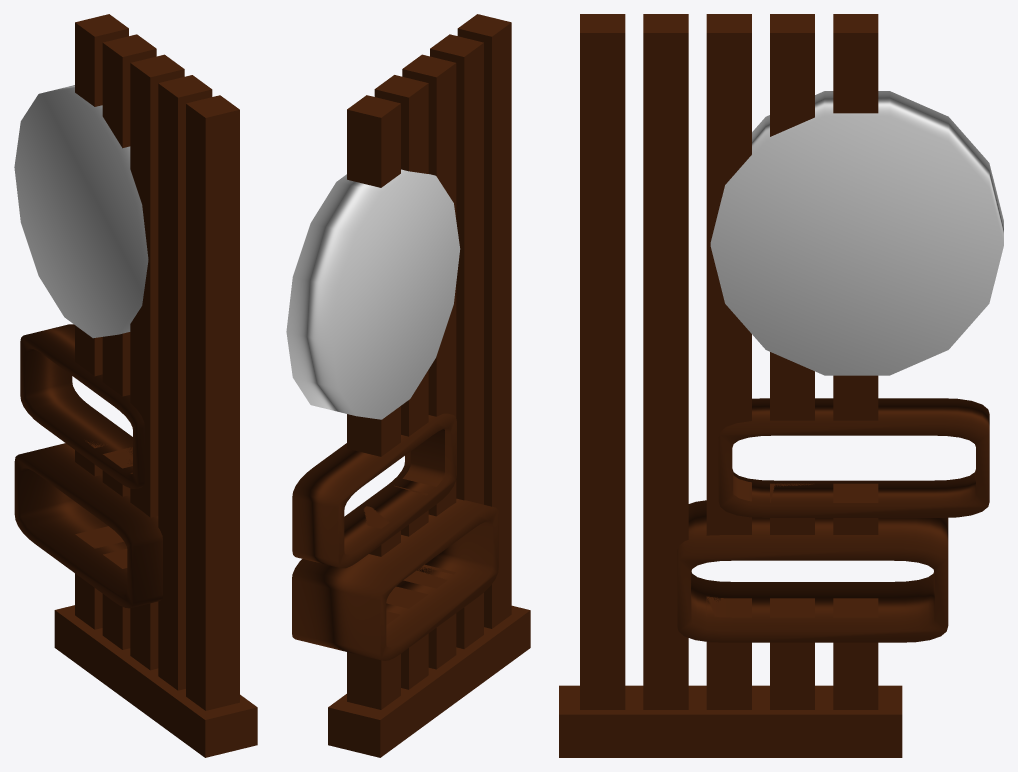
File: expositor6.fbx
3 renders of one model, left to right at view 1: azimuth 30°, elevation 25°; view 2: azimuth 150°, elevation 25°; view 3: azimuth 270°, elevation 25°, orthographic. The views are drawn at different scales.
Parts seen in each view (by area): view 1: Cylinder; view 2: Cylinder; view 3: Cylinder.
Part boxes in pixels (left/top/right/bottom): Cylinder: left=14, top=14, right=257, bottom=757; Cylinder: left=286, top=14, right=530, bottom=757; Cylinder: left=559, top=14, right=1003, bottom=757.
Size of the model in its own units: 79.57 by 542 by 303.
